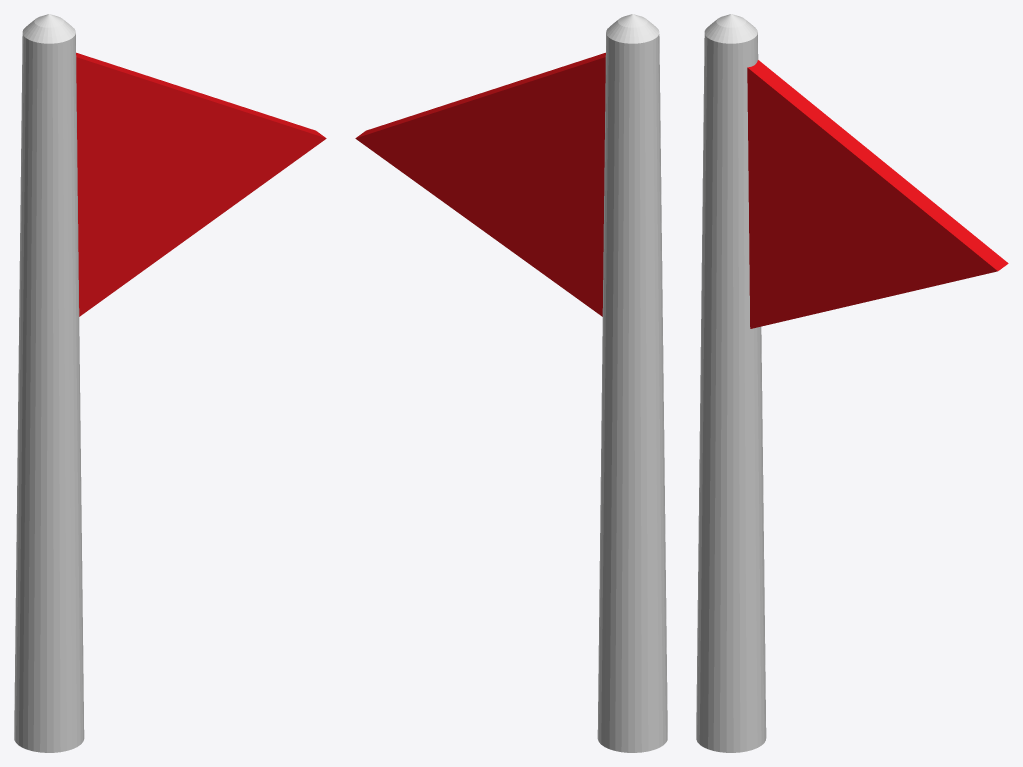
Rendered from flag.glb.
3 renders of one model, left to right at view 1: azimuth 30°, elevation 25°; view 2: azimuth 150°, elevation 25°; view 3: azimuth 330°, elevation 25°, orthographic.
Parts seen in each view (by area): view 1: Pole, Flag; view 2: Pole, Flag; view 3: Pole, Flag.
Boxes of the visible parts, x1,y1,x2,y2 form: Pole: [14, 14, 84, 752]; Flag: [76, 52, 326, 316]; Pole: [597, 14, 667, 752]; Flag: [355, 52, 605, 316]; Pole: [696, 14, 766, 752]; Flag: [747, 60, 1008, 328].
Size of the model in its own units: 0.616 by 1.41 by 0.1238.
